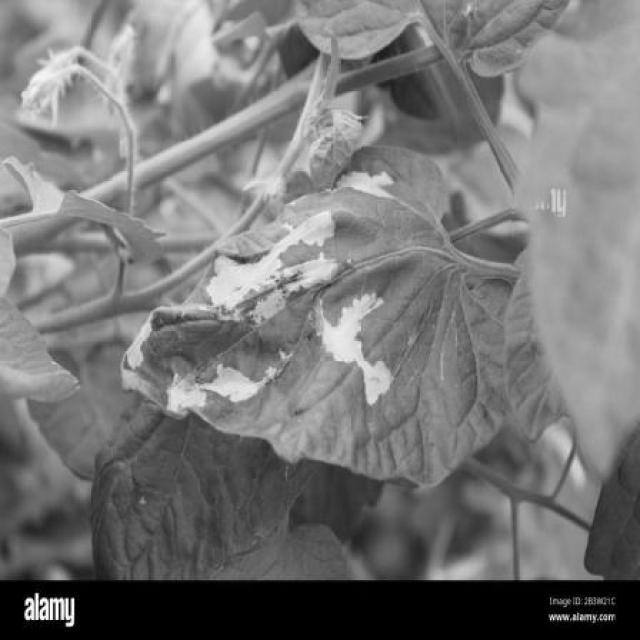Leaf Miner: (113, 142, 511, 491)
